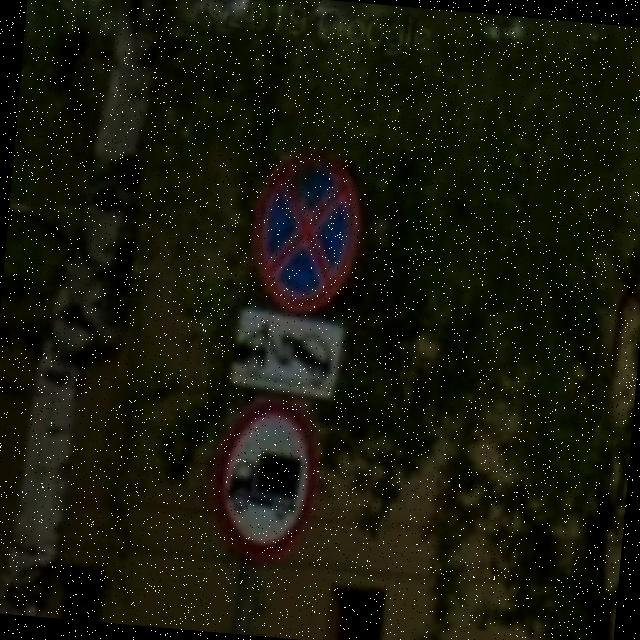Zakaz zatrzymywania sie: (241, 137, 372, 320)
